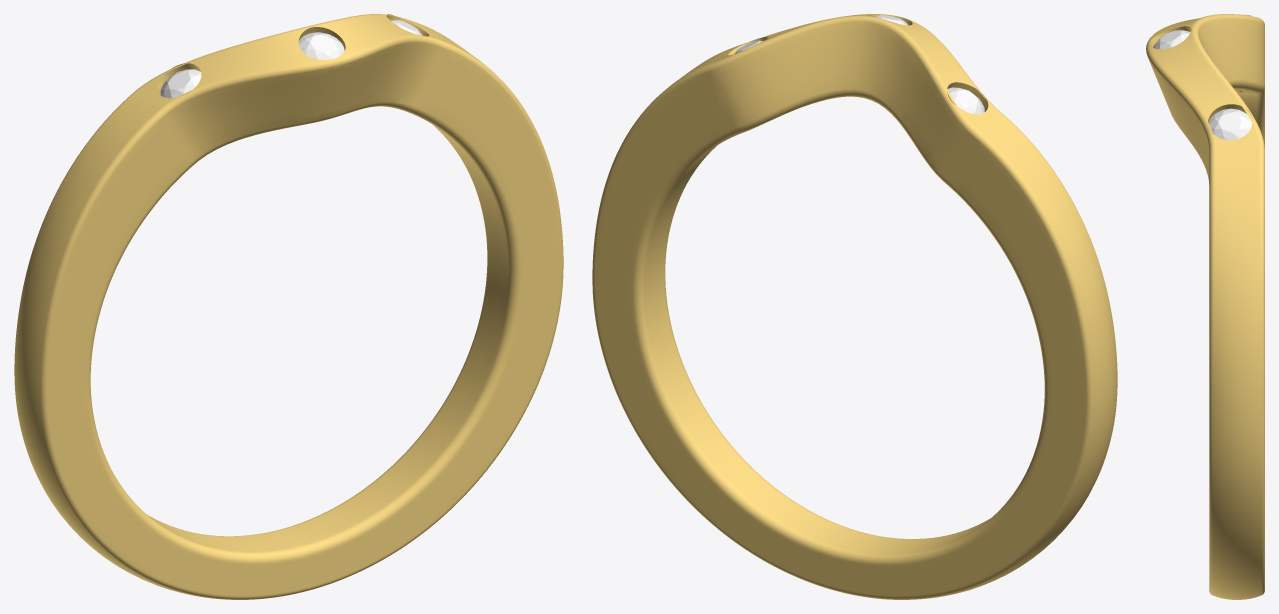
Rendered from trichell_shelby2_webgi.glb.
3 views of the same model, side by side, from view 1: azimuth 30°, elevation 25°; view 2: azimuth 150°, elevation 25°; view 3: azimuth 270°, elevation 25° (orthographic). The views are drawn at different scales.
Parts seen in each view (by area): view 1: Shelby_YG_WB, Shelby_YG_WB002, Shelby_YG_WB003; view 2: Shelby_YG_WB; view 3: Shelby_YG_WB, Shelby_YG_WB001, Shelby_YG_WB002.
Part boxes in pixels (x1,y1,x2,y2): Shelby_YG_WB: (14,14,563,599); Shelby_YG_WB002: (298,32,344,59); Shelby_YG_WB003: (160,69,201,98); Shelby_YG_WB: (592,14,1117,599); Shelby_YG_WB: (1146,14,1264,599); Shelby_YG_WB001: (1208,108,1252,140); Shelby_YG_WB002: (1153,30,1190,49).
Size of the model in its own units: 2.75 by 2.85 by 0.5669.
